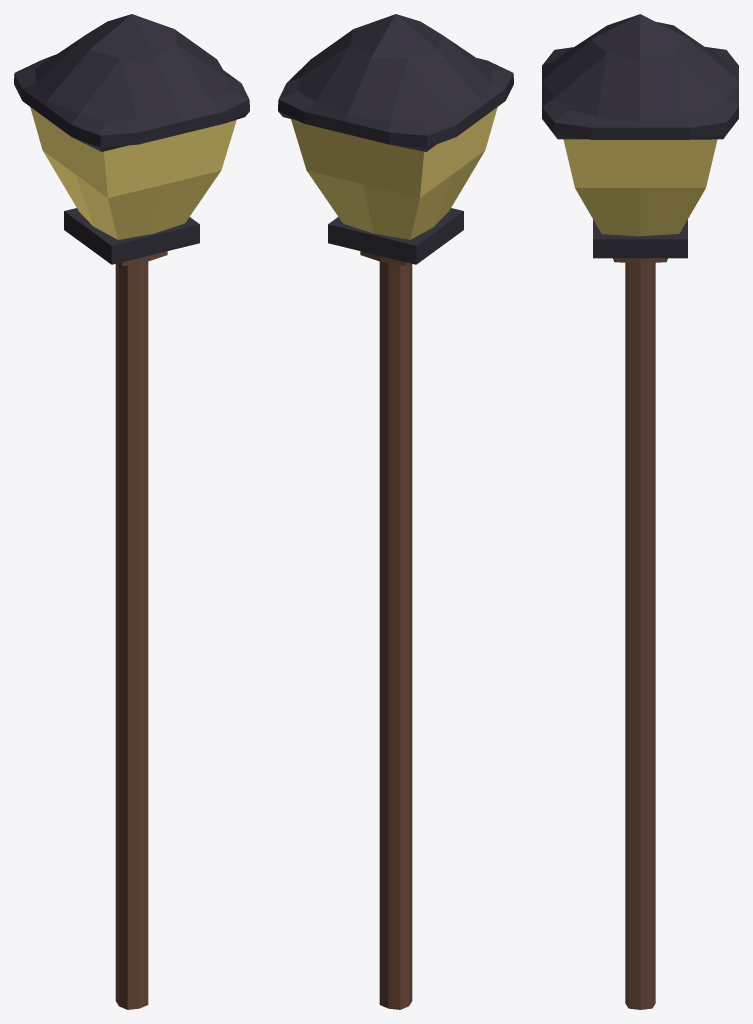
The model's file is Lamp_Onai.glb.
The picture shows the model from 3 angles, left to right: view 1: azimuth 30°, elevation 25°; view 2: azimuth 150°, elevation 25°; view 3: azimuth 270°, elevation 25°; orthographic projection.
Visible parts, largest first — view 1: Cube; view 2: Cube; view 3: Cube.
Part boxes in pixels (x1,y1,x2,y2): Cube: [14, 14, 249, 1009]; Cube: [278, 14, 513, 1009]; Cube: [542, 14, 738, 1009].
Size of the model in its own units: 3 by 16.67 by 3.
3 materials, 2 textured.
